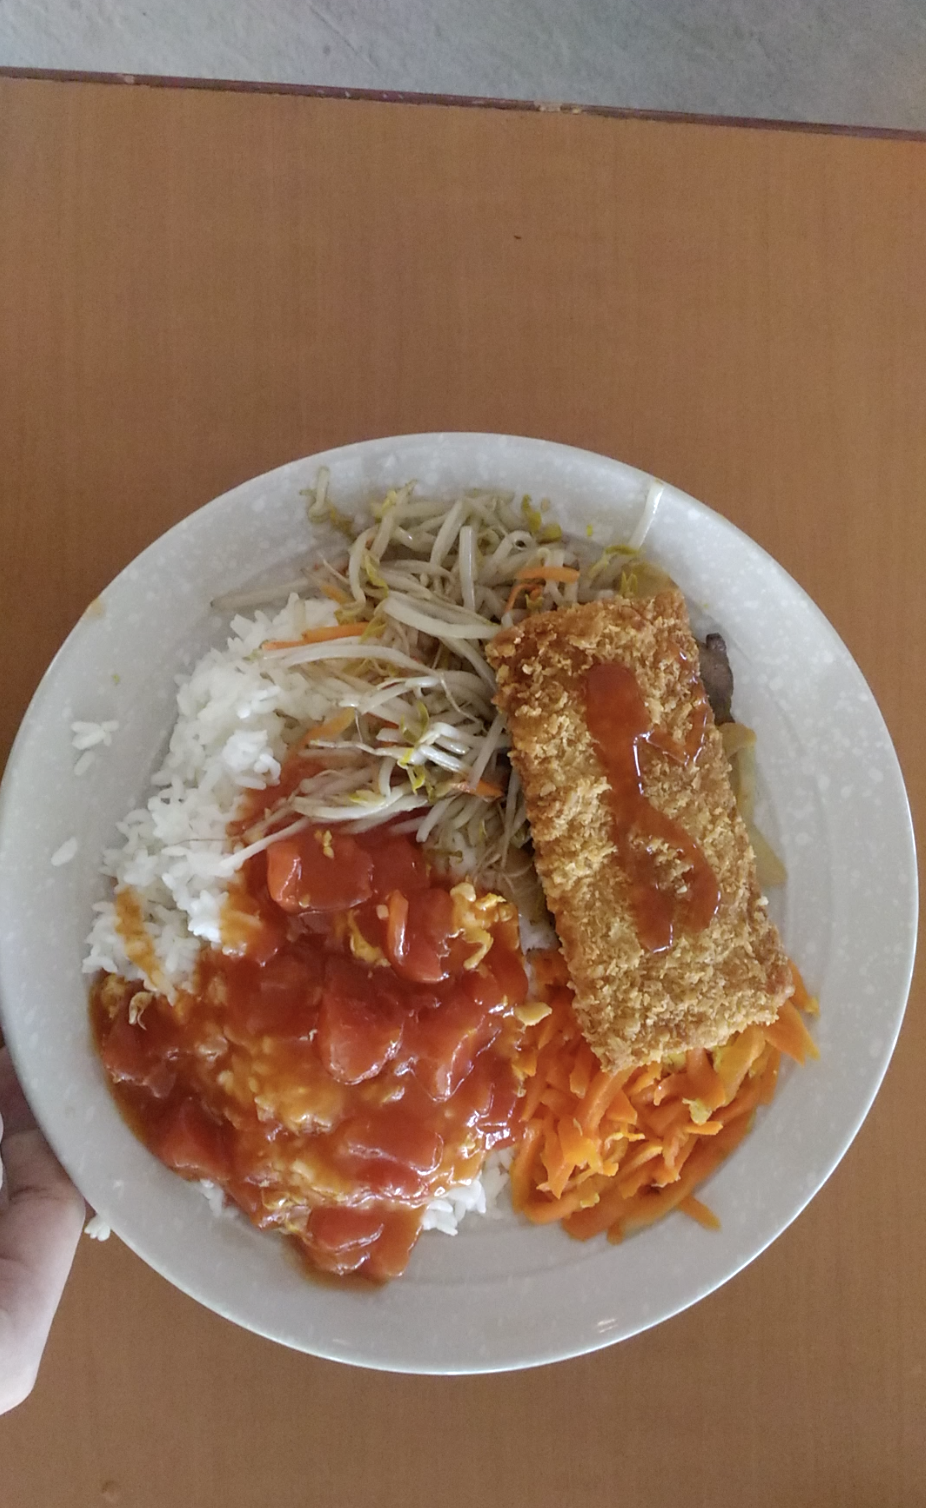carrot_eggs: (531, 1045, 713, 1190)
mung_bean_sprouts: (348, 509, 504, 792)
rice: (155, 668, 280, 837)
triangle_hash_brown: (515, 622, 762, 996)
